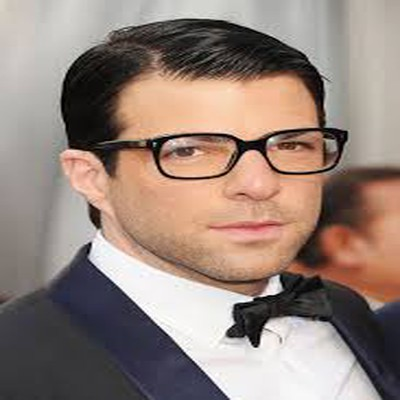eywear: (134, 110, 364, 177)
